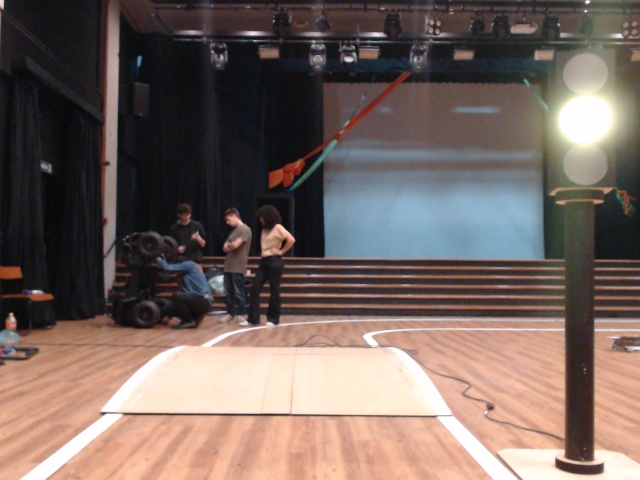SEMAFORO: (543, 35, 629, 217)
